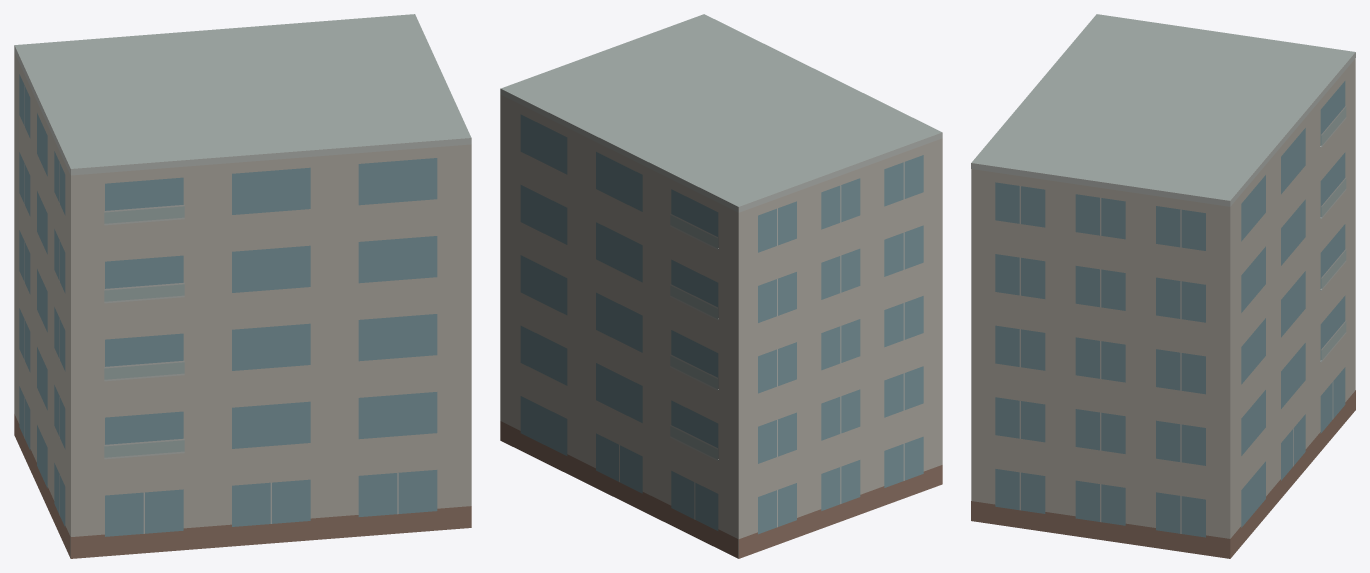
Rendered from survey-upis-33006758.glb.
3 renders of one model, left to right at view 1: azimuth 30°, elevation 25°; view 2: azimuth 150°, elevation 25°; view 3: azimuth 270°, elevation 25°, orthographic. The views are drawn at different scales.
Parts seen in each view (by area): view 1: survey-upis-33006758.tmp; view 2: survey-upis-33006758.tmp; view 3: survey-upis-33006758.tmp.
Part boxes in pixels (x1,y1,x2,y2): survey-upis-33006758.tmp: (14, 14, 471, 558); survey-upis-33006758.tmp: (500, 14, 942, 558); survey-upis-33006758.tmp: (971, 14, 1355, 558).
Size of the model in its own units: 16.41 by 14.65 by 14.28.
